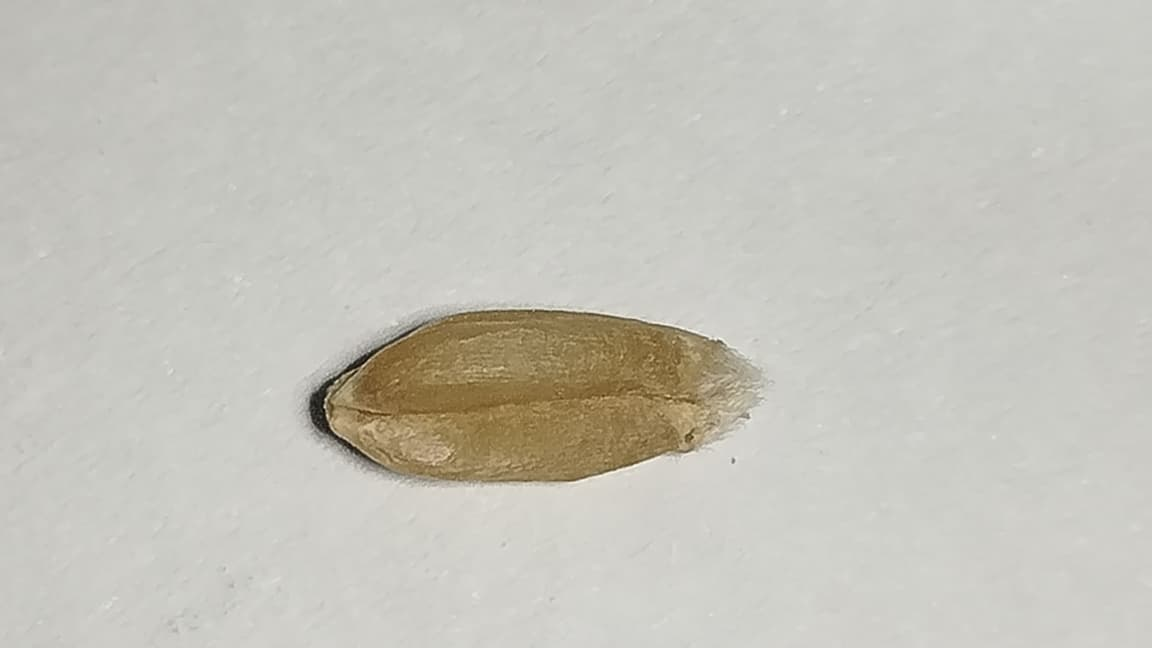healthy: (325, 311, 757, 481)
